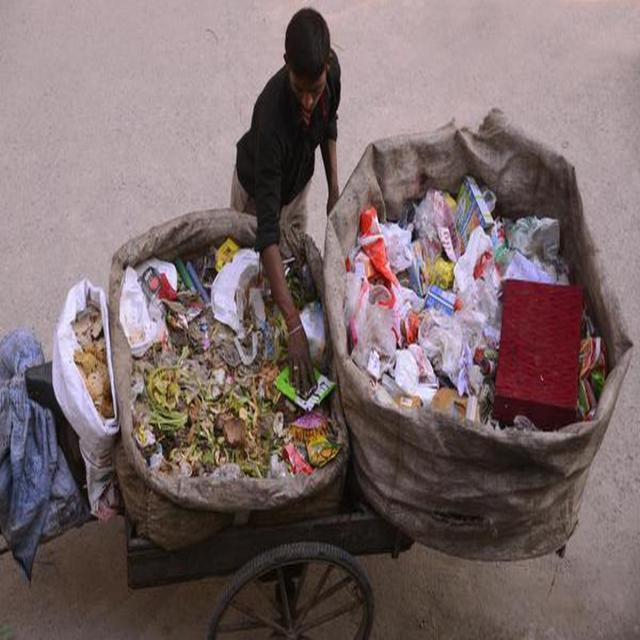Garbage: (340, 178, 609, 429), (120, 187, 341, 478)
Plastic_Bag: (344, 209, 501, 417), (119, 258, 178, 358), (211, 249, 259, 333), (504, 251, 555, 283), (306, 433, 340, 466), (215, 238, 239, 271)
Plastic_wraper: (578, 311, 606, 420), (274, 367, 335, 411), (140, 267, 161, 302)
Tetrapack: (456, 176, 494, 248), (506, 216, 560, 262)
